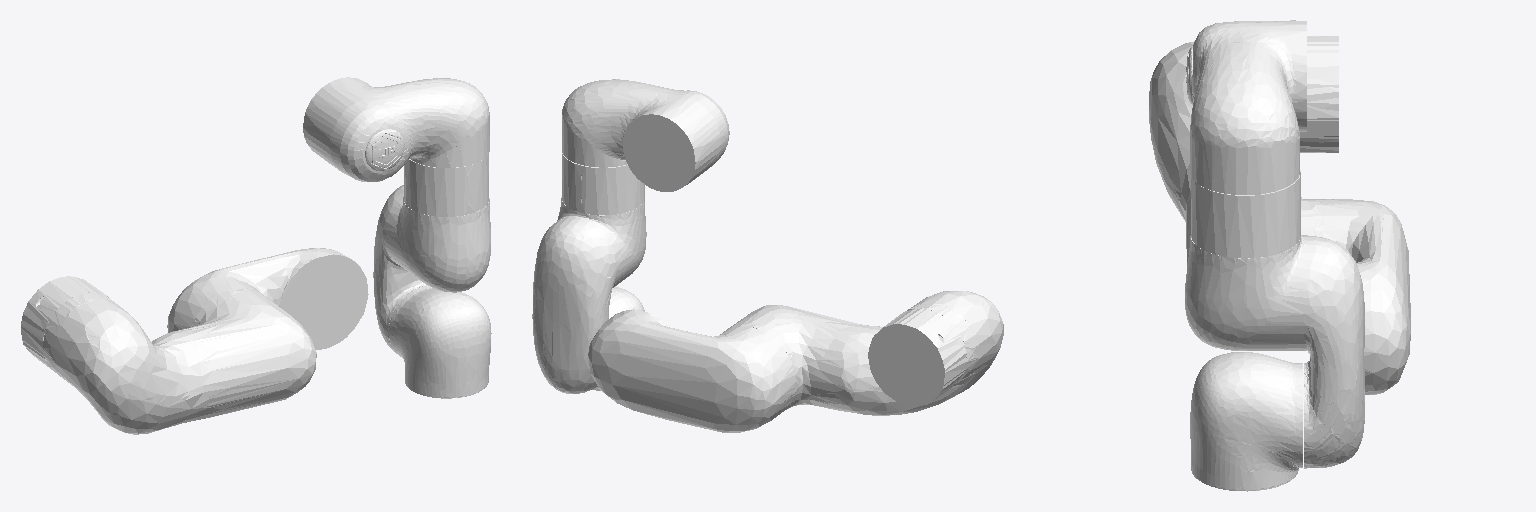
The robot description file, URDF, robot "UF_ROBOT":
<?xml version="1.0" ?>
<!-- =================================================================================== -->
<!-- |    This document was autogenerated by xacro from $(ros2 pkg prefix xarm_description)/share/xarm_description/urdf/xarm_device.urdf.xacro dof:=6 robot_type:=lite | -->
<!-- |    EDITING THIS FILE BY HAND IS NOT RECOMMENDED                                 | -->
<!-- =================================================================================== -->
<robot name="UF_ROBOT">
  <!-- Insert at the beginning of xarm_device_macro.xacro -->
  <material name="Black">
    <color rgba="0.0 0.0 0.0 1.0"/>
  </material>
  <material name="Red">
    <color rgba="0.8 0.0 0.0 1.0"/>
  </material>
  <material name="White">
    <color rgba="1.0 1.0 1.0 1.0"/>
  </material>
  <material name="Silver">
    <color rgba="0.753 0.753 0.753 1.0"/>
  </material>
  <link name="world"/>
  <joint name="world_joint" type="fixed">
    <parent link="world"/>
    <child link="link_base"/>
    <origin rpy="0 0 0" xyz="0 0 0"/>
  </joint>
  <ros2_control name="uf_robot_hardware/UFRobotSystemHardware" type="system">
    <hardware>
      <plugin>uf_robot_hardware/UFRobotSystemHardware</plugin>
      <param name="hw_ns">xarm</param>
      <param name="velocity_control">False</param>
      <param name="prefix">P</param>
      <param name="robot_ip">R</param>
      <param name="report_type">normal</param>
      <param name="dof">6</param>
      <param name="baud_checkset">True</param>
      <param name="default_gripper_baud">2000000</param>
      <param name="robot_type">lite</param>
      <param name="add_gripper">False</param>
    </hardware>
    <joint name="joint1">
      <command_interface name="position">
        <param name="min">-6.283185307179586</param>
        <param name="max">6.283185307179586</param>
      </command_interface>
      <command_interface name="velocity">
        <param name="min">-3.14</param>
        <param name="max">3.14</param>
      </command_interface>
      <state_interface name="position"/>
      <state_interface name="velocity"/>
      <!-- <state_interface name="effort"/> -->
    </joint>
    <joint name="joint2">
      <command_interface name="position">
        <param name="min">-2.61799</param>
        <param name="max">2.61799</param>
      </command_interface>
      <command_interface name="velocity">
        <param name="min">-3.14</param>
        <param name="max">3.14</param>
      </command_interface>
      <state_interface name="position"/>
      <state_interface name="velocity"/>
      <!-- <state_interface name="effort"/> -->
    </joint>
    <joint name="joint3">
      <command_interface name="position">
        <param name="min">-0.061087</param>
        <param name="max">5.235988</param>
      </command_interface>
      <command_interface name="velocity">
        <param name="min">-3.14</param>
        <param name="max">3.14</param>
      </command_interface>
      <state_interface name="position"/>
      <state_interface name="velocity"/>
      <!-- <state_interface name="effort"/> -->
    </joint>
    <joint name="joint4">
      <command_interface name="position">
        <param name="min">-6.283185307179586</param>
        <param name="max">6.283185307179586</param>
      </command_interface>
      <command_interface name="velocity">
        <param name="min">-3.14</param>
        <param name="max">3.14</param>
      </command_interface>
      <state_interface name="position"/>
      <state_interface name="velocity"/>
      <!-- <state_interface name="effort"/> -->
    </joint>
    <joint name="joint5">
      <command_interface name="position">
        <param name="min">-2.1642</param>
        <param name="max">2.1642</param>
      </command_interface>
      <command_interface name="velocity">
        <param name="min">-3.14</param>
        <param name="max">3.14</param>
      </command_interface>
      <state_interface name="position"/>
      <state_interface name="velocity"/>
      <!-- <state_interface name="effort"/> -->
    </joint>
    <joint name="joint6">
      <command_interface name="position">
        <param name="min">-6.283185307179586</param>
        <param name="max">6.283185307179586</param>
      </command_interface>
      <command_interface name="velocity">
        <param name="min">-3.14</param>
        <param name="max">3.14</param>
      </command_interface>
      <state_interface name="position"/>
      <state_interface name="velocity"/>
      <!-- <state_interface name="effort"/> -->
    </joint>
  </ros2_control>
  <link name="link_base">
    <inertial>
      <origin rpy="0 0 0" xyz="-0.00829544579053192 3.26357432323433E-05 0.0631194584987089"/>
      <mass value="1.65393501783165"/>
      <inertia ixx="0" ixy="0" ixz="0" iyy="0" iyz="0" izz="0"/>
    </inertial>
    <visual>
      <geometry>
        <mesh filename="package://xarm_description/meshes/lite6/visual/link_base.stl"/>
      </geometry>
      <origin rpy="0 0 0" xyz="0 0 0"/>
      <material name="White"/>
    </visual>
    <collision>
      <geometry>
        <mesh filename="package://xarm_description/meshes/lite6/collision/link_base.stl"/>
      </geometry>
      <origin rpy="0 0 0" xyz="0 0 0"/>
    </collision>
  </link>
  <link name="link1">
    <inertial>
      <origin rpy="0 0 0" xyz="-0.00036 0.04195 -0.0025"/>
      <mass value="1.411"/>
      <inertia ixx="0.0014516400000000001" ixy="-1.24e-05" ixz="6.7e-06" iyy="0.0008872999999999999" iyz="-0.0001255" izz="0.00131993"/>
    </inertial>
    <visual>
      <geometry>
        <mesh filename="package://xarm_description/meshes/lite6/visual/link1.stl"/>
      </geometry>
      <origin rpy="0 0 0" xyz="0 0 0"/>
      <material name="White"/>
    </visual>
    <collision>
      <geometry>
        <mesh filename="package://xarm_description/meshes/lite6/collision/link1.stl"/>
      </geometry>
      <origin rpy="0 0 0" xyz="0 0 0"/>
    </collision>
  </link>
  <joint name="joint1" type="revolute">
    <origin rpy="0 0 0" xyz="0 0 0.2435"/>
    <parent link="link_base"/>
    <child link="link1"/>
    <axis xyz="0 0 1"/>
    <limit effort="50.0" lower="-6.283185307179586" upper="6.283185307179586" velocity="3.14"/>
    <dynamics damping="1.0" friction="1.0"/>
  </joint>
  <link name="link2">
    <inertial>
      <origin rpy="0 0 0" xyz="0.179 0.0 0.0584"/>
      <mass value="1.34"/>
      <inertia ixx="0.0015854" ixy="6.766e-06" ixz="0.00115136" iyy="0.0056097" iyz="-1.1399999999999999e-06" izz="0.00485"/>
    </inertial>
    <visual>
      <geometry>
        <mesh filename="package://xarm_description/meshes/lite6/visual/link2.stl"/>
      </geometry>
      <origin rpy="0 0 0" xyz="0 0 0"/>
      <material name="White"/>
    </visual>
    <collision>
      <geometry>
        <mesh filename="package://xarm_description/meshes/lite6/collision/link2.stl"/>
      </geometry>
      <origin rpy="0 0 0" xyz="0 0 0"/>
    </collision>
  </link>
  <joint name="joint2" type="revolute">
    <origin rpy="1.5708 -1.5708 3.1416" xyz="0 0 0"/>
    <parent link="link1"/>
    <child link="link2"/>
    <axis xyz="0 0 1"/>
    <limit effort="50.0" lower="-2.61799" upper="2.61799" velocity="3.14"/>
    <dynamics damping="1.0" friction="1.0"/>
  </joint>
  <link name="link3">
    <inertial>
      <origin rpy="0 0 0" xyz="0.072 -0.0357 -0.001"/>
      <mass value="0.953"/>
      <inertia ixx="0.0008861" ixy="0.00039286999999999997" ixz="-7.065999999999999e-05" iyy="0.0015784999999999998" iyz="2.4449999999999998e-05" izz="0.00184677"/>
    </inertial>
    <visual>
      <geometry>
        <mesh filename="package://xarm_description/meshes/lite6/visual/link3.stl"/>
      </geometry>
      <origin rpy="0 0 0" xyz="0 0 0"/>
      <material name="White"/>
    </visual>
    <collision>
      <geometry>
        <mesh filename="package://xarm_description/meshes/lite6/collision/link3.stl"/>
      </geometry>
      <origin rpy="0 0 0" xyz="0 0 0"/>
    </collision>
  </link>
  <joint name="joint3" type="revolute">
    <origin rpy="-3.1416 0 1.5708" xyz="0.2002 0 0"/>
    <parent link="link2"/>
    <child link="link3"/>
    <axis xyz="0 0 1"/>
    <limit effort="32.0" lower="-0.061087" upper="5.235988" velocity="3.14"/>
    <dynamics damping="1.0" friction="1.0"/>
  </joint>
  <link name="link4">
    <inertial>
      <origin rpy="0 0 0" xyz="-0.002 -0.0285 -0.0813"/>
      <mass value="1.284"/>
      <inertia ixx="0.003705" ixy="2e-06" ixz="-7.17e-06" iyy="0.0030455" iyz="0.00093188" izz="0.0015412999999999998"/>
    </inertial>
    <visual>
      <geometry>
        <mesh filename="package://xarm_description/meshes/lite6/visual/link4.stl"/>
      </geometry>
      <origin rpy="0 0 0" xyz="0 0 0"/>
      <material name="White"/>
    </visual>
    <collision>
      <geometry>
        <mesh filename="package://xarm_description/meshes/lite6/collision/link4.stl"/>
      </geometry>
      <origin rpy="0 0 0" xyz="0 0 0"/>
    </collision>
  </link>
  <joint name="joint4" type="revolute">
    <origin rpy="1.5708 0 0" xyz="0.087 -0.22761 0"/>
    <parent link="link3"/>
    <child link="link4"/>
    <axis xyz="0 0 1"/>
    <limit effort="32.0" lower="-6.283185307179586" upper="6.283185307179586" velocity="3.14"/>
    <dynamics damping="1.0" friction="1.0"/>
  </joint>
  <link name="link5">
    <inertial>
      <origin rpy="0 0 0" xyz="0.0 0.01 0.0019"/>
      <mass value="0.804"/>
      <inertia ixx="0.0005667999999999999" ixy="-6e-07" ixz="5.299999999999999e-06" iyy="0.0005076999999999999" iyz="4.8e-07" izz="0.00053"/>
    </inertial>
    <visual>
      <geometry>
        <mesh filename="package://xarm_description/meshes/lite6/visual/link5.stl"/>
      </geometry>
      <origin rpy="0 0 0" xyz="0 0 0"/>
      <material name="White"/>
    </visual>
    <collision>
      <geometry>
        <mesh filename="package://xarm_description/meshes/lite6/collision/link5.stl"/>
      </geometry>
      <origin rpy="0 0 0" xyz="0 0 0"/>
    </collision>
  </link>
  <joint name="joint5" type="revolute">
    <origin rpy="1.5708 0 0" xyz="0 0 0"/>
    <parent link="link4"/>
    <child link="link5"/>
    <axis xyz="0 0 1"/>
    <limit effort="32.0" lower="-2.1642" upper="2.1642" velocity="3.14"/>
    <dynamics damping="1.0" friction="1.0"/>
  </joint>
  <link name="link6">
    <inertial>
      <origin rpy="0 0 0" xyz="0.0 -0.00194 -0.0102"/>
      <mass value="0.13"/>
      <inertia ixx="7.726e-05" ixy="-1e-06" ixz="-4e-07" iyy="8.5665e-05" iyz="6e-07" izz="0.00014813999999999997"/>
    </inertial>
    <visual>
      <geometry>
        <mesh filename="package://xarm_description/meshes/lite6/visual/link6.stl"/>
      </geometry>
      <origin rpy="0 0 0" xyz="0 0 0"/>
      <material name="Silver"/>
    </visual>
    <collision>
      <geometry>
        <mesh filename="package://xarm_description/meshes/lite6/collision/link6.stl"/>
      </geometry>
      <origin rpy="0 0 0" xyz="0 0 0"/>
    </collision>
  </link>
  <joint name="joint6" type="revolute">
    <origin rpy="-1.5708 0 0" xyz="0 0.0625 0"/>
    <parent link="link5"/>
    <child link="link6"/>
    <axis xyz="0 0 1"/>
    <limit effort="20.0" lower="-6.283185307179586" upper="6.283185307179586" velocity="3.14"/>
    <dynamics damping="1.0" friction="1.0"/>
  </joint>
  <!-- <link name="${prefix}link_eef" />
    <joint name="${prefix}joint_eef" type="fixed">
      <origin xyz="0 0 0" rpy="0 0 0" />
      <parent link="${prefix}link6" />
      <child link="${prefix}link_eef" />
    </joint> -->
  <transmission name="tran1">
    <type>transmission_interface/SimpleTransmission</type>
    <joint name="joint1">
      <hardwareInterface>hardware_interface/PositionJointInterface</hardwareInterface>
    </joint>
    <actuator name="motor1">
      <hardwareInterface>hardware_interface/PositionJointInterface</hardwareInterface>
      <mechanicalReduction>100</mechanicalReduction>
    </actuator>
  </transmission>
  <transmission name="tran2">
    <type>transmission_interface/SimpleTransmission</type>
    <joint name="joint2">
      <hardwareInterface>hardware_interface/PositionJointInterface</hardwareInterface>
    </joint>
    <actuator name="motor2">
      <hardwareInterface>hardware_interface/PositionJointInterface</hardwareInterface>
      <mechanicalReduction>100</mechanicalReduction>
    </actuator>
  </transmission>
  <transmission name="tran3">
    <type>transmission_interface/SimpleTransmission</type>
    <joint name="joint3">
      <hardwareInterface>hardware_interface/PositionJointInterface</hardwareInterface>
    </joint>
    <actuator name="motor3">
      <hardwareInterface>hardware_interface/PositionJointInterface</hardwareInterface>
      <mechanicalReduction>100</mechanicalReduction>
    </actuator>
  </transmission>
  <transmission name="tran4">
    <type>transmission_interface/SimpleTransmission</type>
    <joint name="joint4">
      <hardwareInterface>hardware_interface/PositionJointInterface</hardwareInterface>
    </joint>
    <actuator name="motor4">
      <hardwareInterface>hardware_interface/PositionJointInterface</hardwareInterface>
      <mechanicalReduction>100</mechanicalReduction>
    </actuator>
  </transmission>
  <transmission name="tran5">
    <type>transmission_interface/SimpleTransmission</type>
    <joint name="joint5">
      <hardwareInterface>hardware_interface/PositionJointInterface</hardwareInterface>
    </joint>
    <actuator name="motor5">
      <hardwareInterface>hardware_interface/PositionJointInterface</hardwareInterface>
      <mechanicalReduction>100</mechanicalReduction>
    </actuator>
  </transmission>
  <transmission name="tran6">
    <type>transmission_interface/SimpleTransmission</type>
    <joint name="joint6">
      <hardwareInterface>hardware_interface/PositionJointInterface</hardwareInterface>
    </joint>
    <actuator name="motor6">
      <hardwareInterface>hardware_interface/PositionJointInterface</hardwareInterface>
      <mechanicalReduction>100</mechanicalReduction>
    </actuator>
  </transmission>
  <gazebo reference="link_base">
    <selfCollide>true</selfCollide>
  </gazebo>
  <gazebo reference="link1">
    <selfCollide>true</selfCollide>
  </gazebo>
  <gazebo reference="link2">
    <selfCollide>true</selfCollide>
  </gazebo>
  <gazebo reference="link3">
    <selfCollide>true</selfCollide>
  </gazebo>
  <gazebo reference="link4">
    <selfCollide>true</selfCollide>
  </gazebo>
  <gazebo reference="link5">
    <selfCollide>true</selfCollide>
  </gazebo>
  <gazebo reference="link6">
    <selfCollide>true</selfCollide>
  </gazebo>
  <link name="link_eef"/>
  <joint name="joint_eef" type="fixed">
    <origin rpy="0 0 0" xyz="0 0 0"/>
    <parent link="link6"/>
    <child link="link_eef"/>
  </joint>
  <!-- Insert at the end of xarm_device_macro.xacro -->
</robot>

--- What the picture shows (computed from the rendered views, not written in the file) ---
Views: 3 orthographic renders of the robot side by side, from view 1: azimuth 30°, elevation 25°; view 2: azimuth 150°, elevation 25°; view 3: azimuth 270°, elevation 25°.
Model UF_ROBOT with 9 links and 8 joints (6 revolute, 2 fixed), rooted at world, posed every joint at zero.
Visible links, largest first — view 1: link2, link3, link4, link5; view 2: link2, link4, link3, link5; view 3: link4, link2, link3, link5.
Boxes of the visible links, bbox=[...] form: link2: bbox=[21, 248, 368, 434]; link3: bbox=[303, 77, 489, 181]; link4: bbox=[373, 154, 490, 353]; link5: bbox=[389, 285, 491, 398]; link2: bbox=[588, 291, 1003, 432]; link4: bbox=[532, 153, 646, 393]; link3: bbox=[562, 79, 729, 191]; link5: bbox=[592, 286, 644, 390]; link4: bbox=[1185, 170, 1364, 468]; link2: bbox=[1149, 36, 1410, 394]; link3: bbox=[1186, 20, 1306, 194]; link5: bbox=[1190, 352, 1302, 491].
Bounding box of the posed robot: 0.4557 × 0.1882 × 0.3095 m (x, y, z).
Meshes: 7 distinct files referenced, 4 mesh visuals loaded (4 binary STL); not drawn: 3 (reference not matched to a file when rendering).
